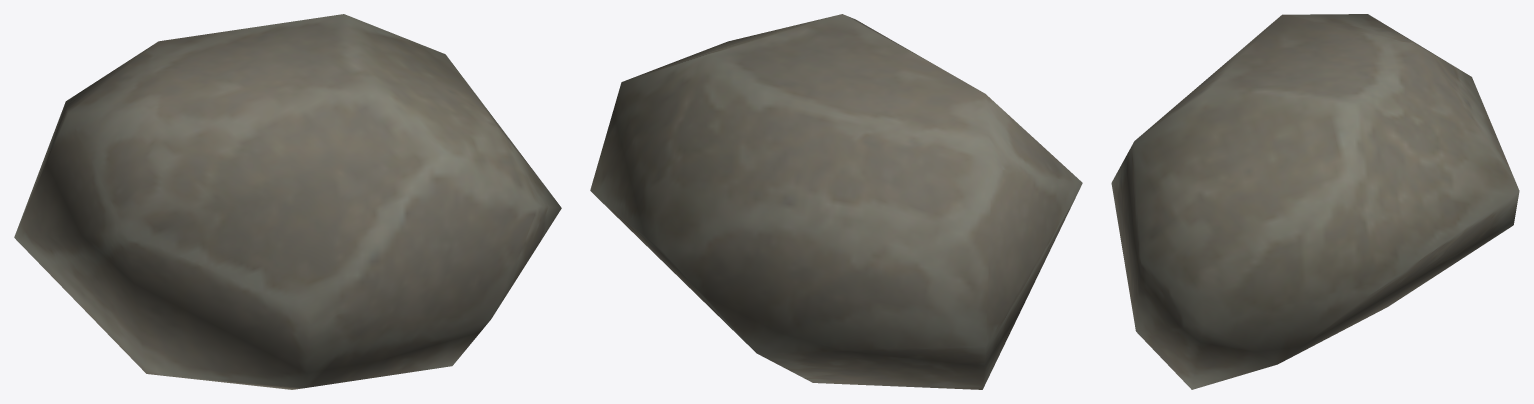
The model's file is MSH_fwOF_Debris_Single_06.fbx.
3 renders of one model, left to right at view 1: azimuth 30°, elevation 25°; view 2: azimuth 150°, elevation 25°; view 3: azimuth 270°, elevation 25°, orthographic. The views are drawn at different scales.
Parts seen in each view (by area): view 1: MSH_fwOF_Debris_Single_06_LOD0; view 2: MSH_fwOF_Debris_Single_06_LOD0; view 3: MSH_fwOF_Debris_Single_06_LOD0.
Boxes of the visible parts, <box> form: MSH_fwOF_Debris_Single_06_LOD0: <box>14,14,561,389</box>; MSH_fwOF_Debris_Single_06_LOD0: <box>590,14,1082,389</box>; MSH_fwOF_Debris_Single_06_LOD0: <box>1111,14,1519,389</box>.
Size of what is drawn, in the model's own units: 0.2397 by 0.1677 by 0.2076.
